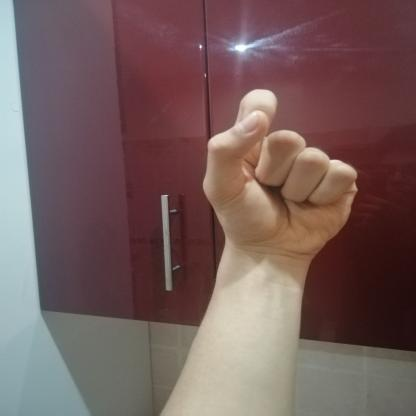FAA: (182, 81, 380, 272)
